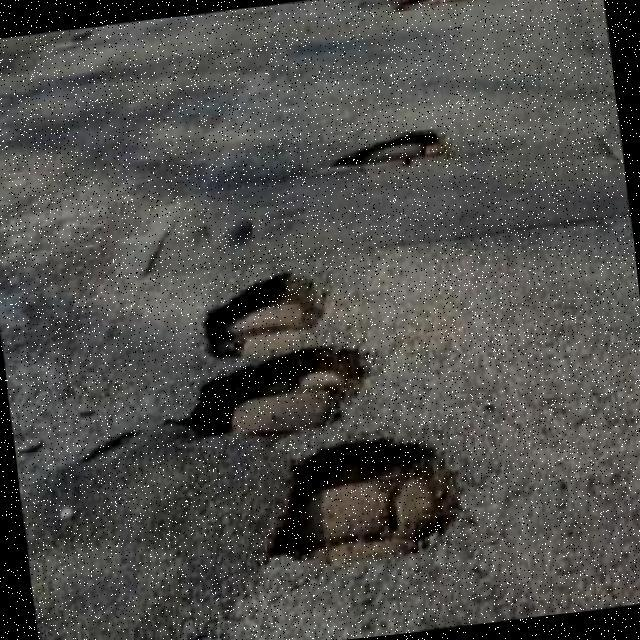Pothole: (268, 441, 463, 559), (175, 347, 371, 440), (202, 273, 327, 360), (329, 132, 456, 171), (391, 0, 477, 9)
